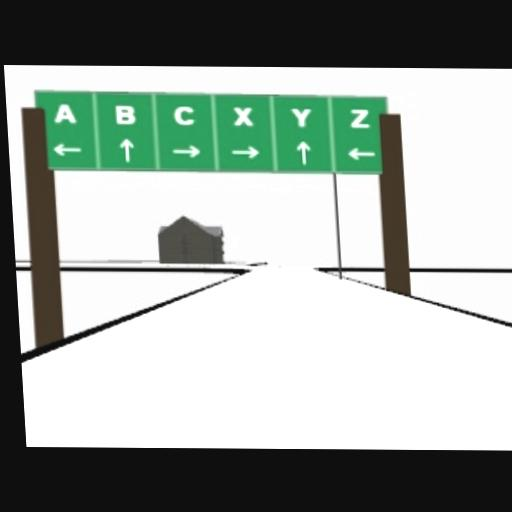A: (54, 103, 76, 124)
B: (115, 105, 135, 124)
C: (173, 106, 195, 125)
Left: (52, 143, 84, 156), (346, 147, 376, 160)
Right: (230, 144, 259, 159), (171, 144, 201, 157)
Straight: (295, 140, 311, 164), (118, 137, 134, 161)
X: (232, 106, 254, 125)
Y: (290, 106, 312, 127)
Z: (348, 108, 370, 127)
